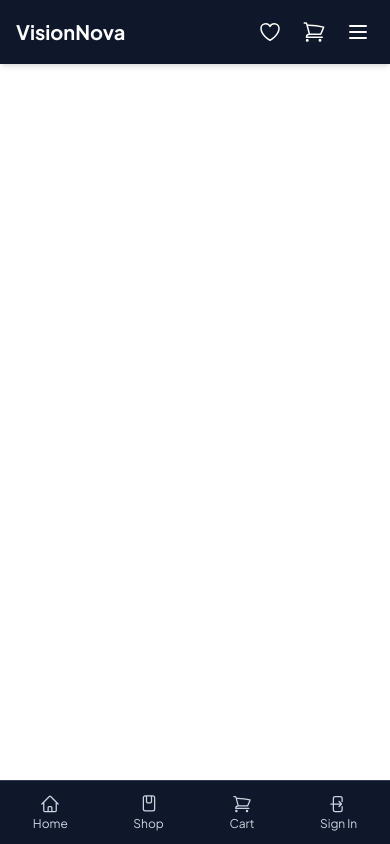
Navbar mobile menu › offers the same five categories as the desktop row
The image size is (390, 844).
Click the button named "toggle menu" at (358, 32), box x1=342 y1=16 x2=374 y2=48
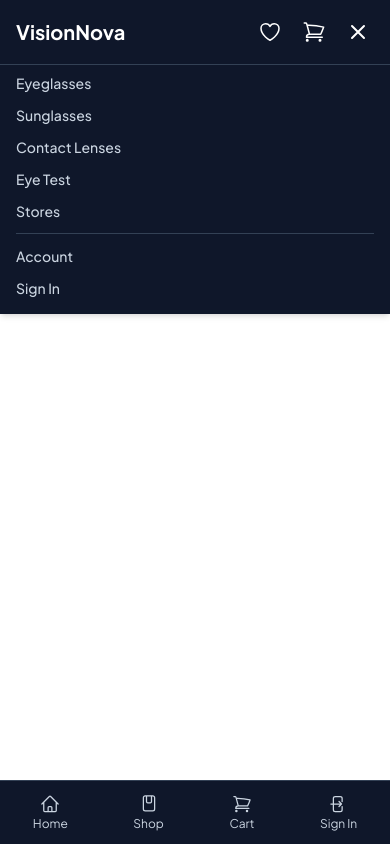
Check: the number of links "Eyeglasses" is 2
Check: the number of links "Sunglasses" is 2
Check: the number of links "Contact Lenses" is 2
